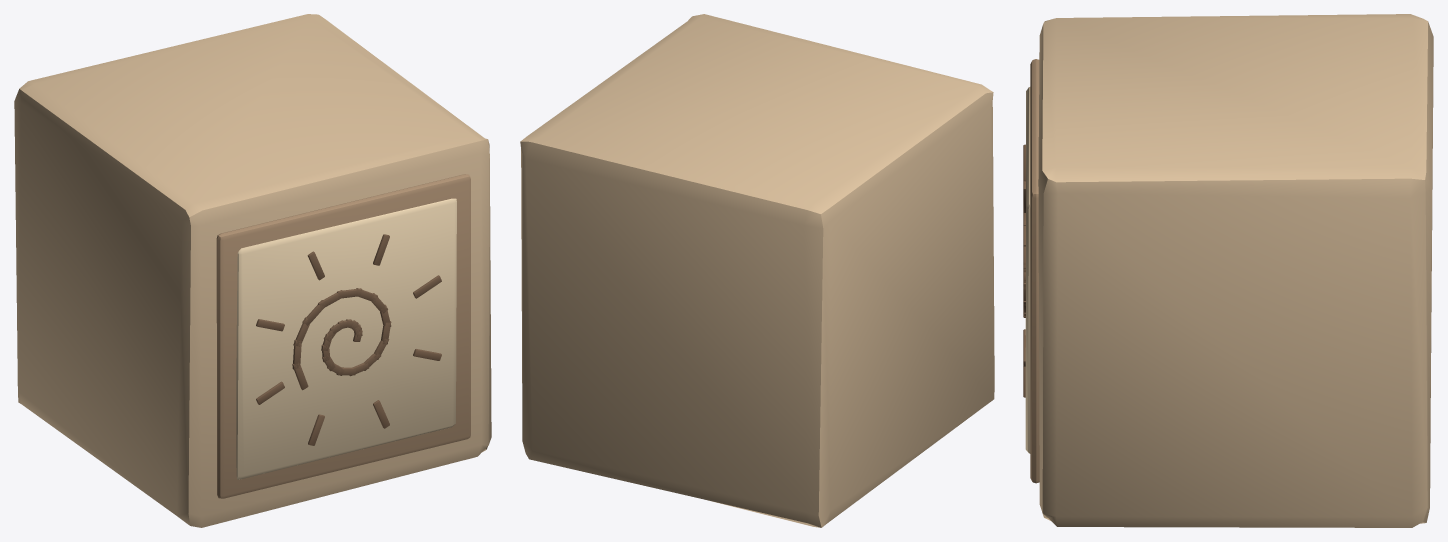
File: tile_stone_c.glb
The picture shows the model from 3 angles, left to right: view 1: azimuth 30°, elevation 25°; view 2: azimuth 150°, elevation 25°; view 3: azimuth 270°, elevation 25°; orthographic projection. The views are drawn at different scales.
Parts seen in each view (by area): view 1: tile_stone_c; view 2: tile_stone_c; view 3: tile_stone_c.
Part boxes in pixels (<box>): tile_stone_c: <box>14,14,491,527</box>; tile_stone_c: <box>520,14,994,527</box>; tile_stone_c: <box>1023,14,1433,527</box>.
Bounding box in the file's own units: 1.02 × 1 × 1.04.
